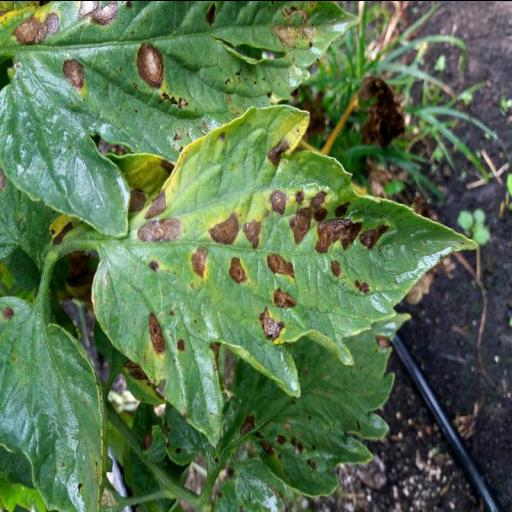disease_tomato: (86, 106, 476, 438), (0, 0, 361, 232)
